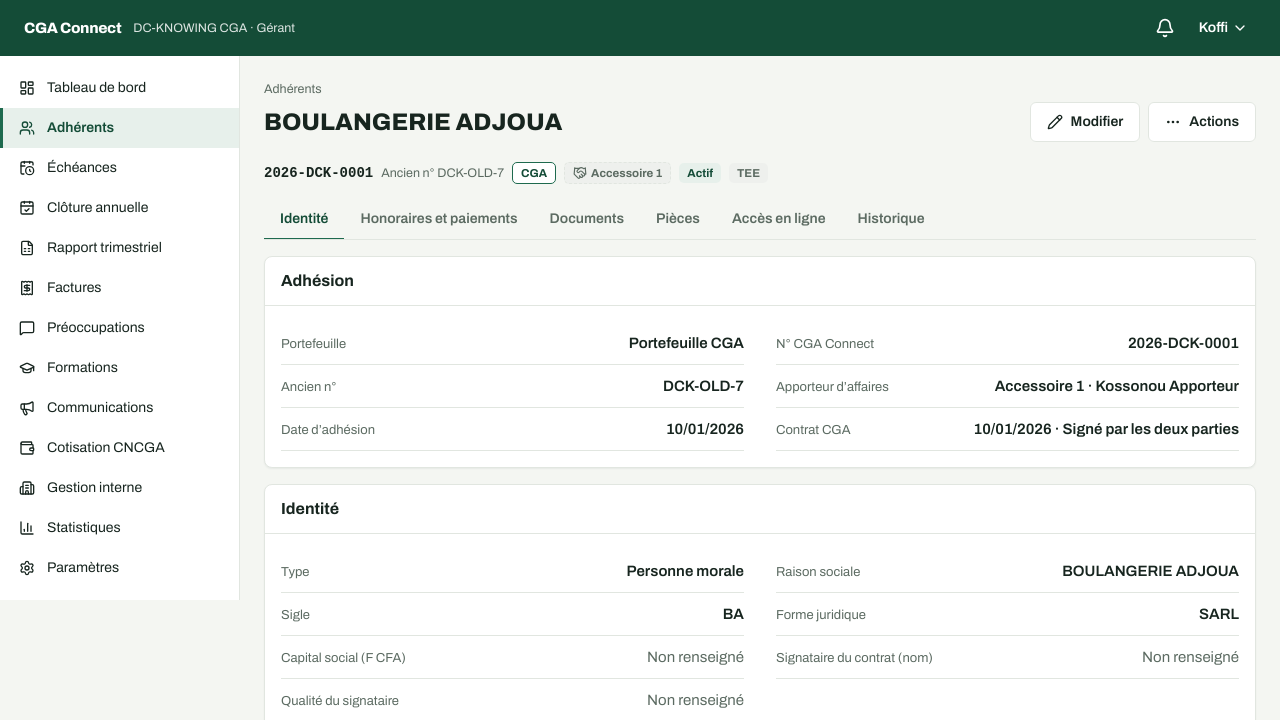
/cga/adherents/:id · Honoraires et paiements (F-PAY-01 à 03) › F-PAY-01 · échéances (montant TTC, payé, reste, statut) et paiements (mode, reçu, statut)
Expected: the heading "BOULANGERIE ADJOUA" is shown, [264,106,562,138]
Click the tab "Honoraires et paiements". click: (439, 220)
box: [344,200,534,240]
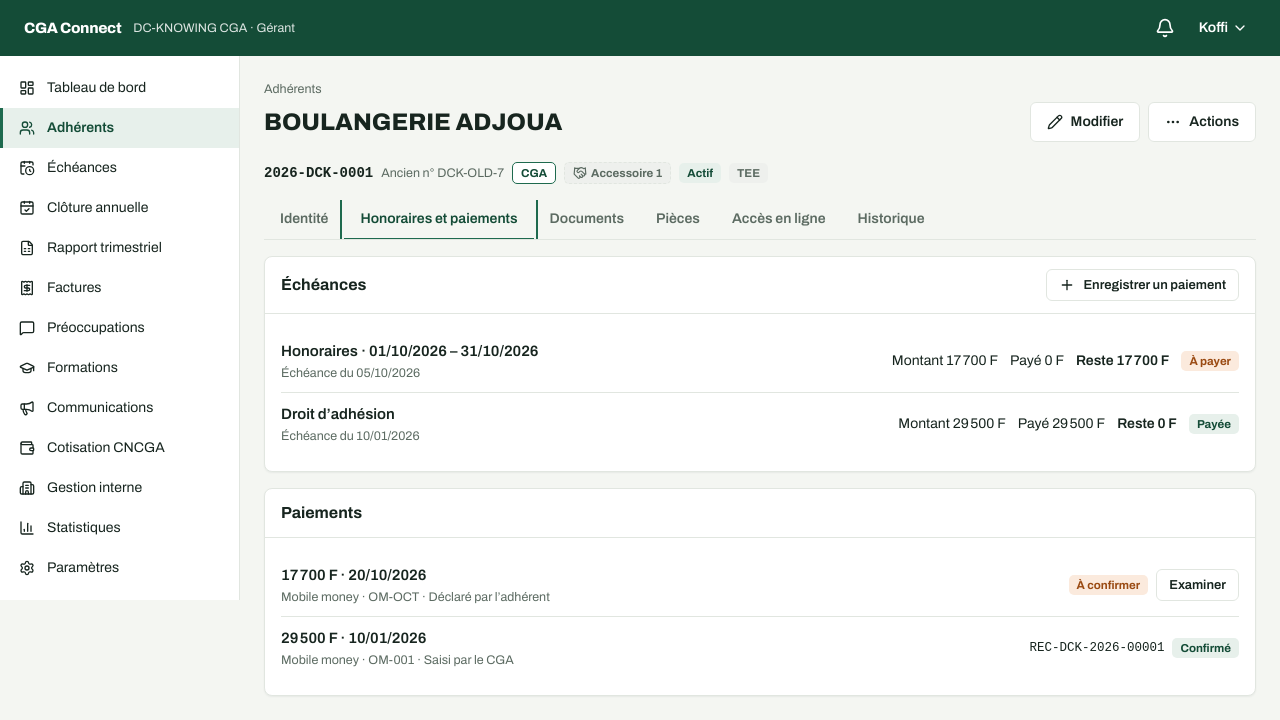
Expected: the text "Honoraires · 01/10/2026 – 31/10/2026" is shown, [281,340,538,362]
Expected: the text "Payée" is shown, [1189,414,1239,434]
Expected: the text "REC-DCK-2026-00001" is shown, [1029,639,1164,657]
